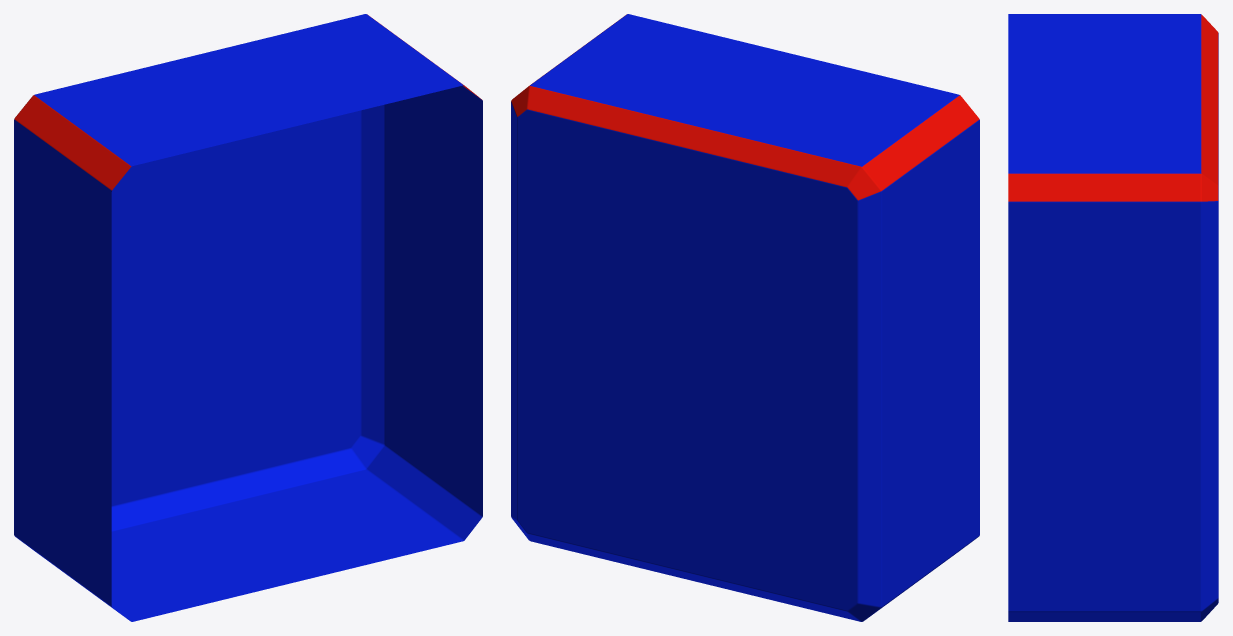
File: End.fbx
3 renders of one model, left to right at view 1: azimuth 30°, elevation 25°; view 2: azimuth 150°, elevation 25°; view 3: azimuth 270°, elevation 25°, orthographic.
Visible parts, largest first — view 1: End; view 2: End; view 3: End.
Boxes of the visible parts, x1,y1,x2,y2 form: End: (14,14,482,621); End: (511,14,979,621); End: (1008,14,1218,621).
Size of the model in its own units: 201 by 235 by 100.
